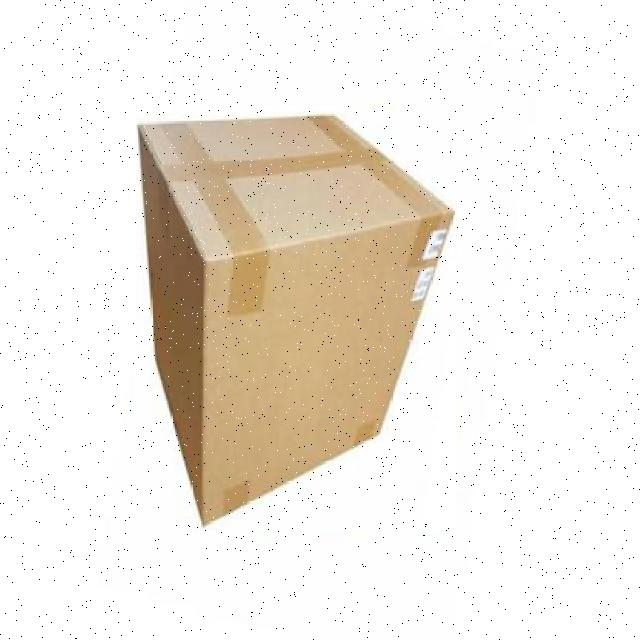normal: (135, 111, 457, 531)
